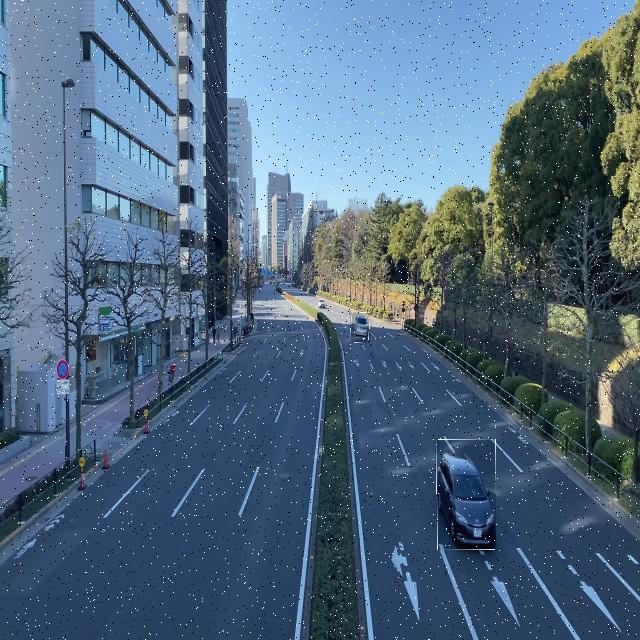Car: (437, 440, 496, 550), (350, 313, 370, 343)
